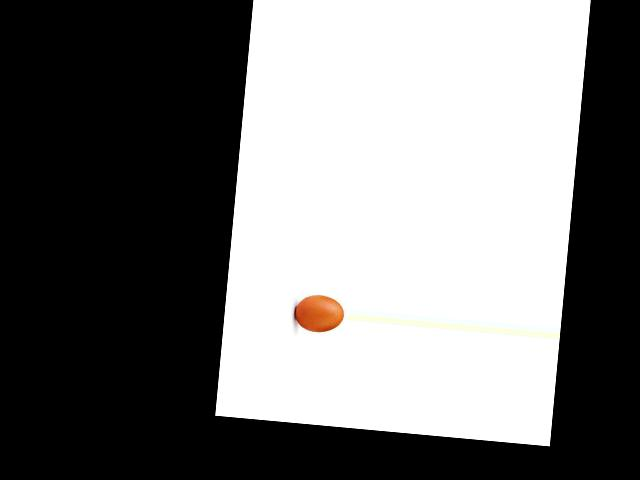egg: (293, 294, 344, 334)
